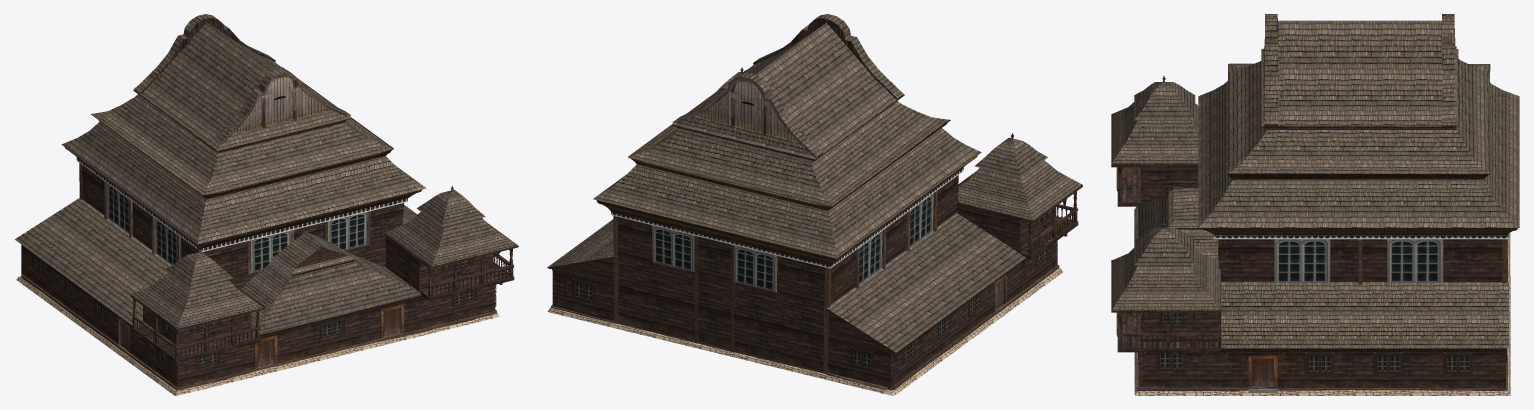
Rendered from preview.glb.
3 views of the same model, side by side, from view 1: azimuth 30°, elevation 25°; view 2: azimuth 150°, elevation 25°; view 3: azimuth 270°, elevation 25° (orthographic). The views are drawn at different scales.
Visible parts, largest first — view 1: wolpa_gont_0, wolpa_drewno_0, wolpa_oknainne_0, wolpa_deskaobiciowaCiemna_0, wolpa_bale5_0, wolpa_KAMIEN3_0, wolpa_deskaObiciowa4_0, wolpa_dekor2_0, wolpa_piaskiDif_0, wolpa_deskaObiciowa8_0; view 2: wolpa_gont_0, wolpa_drewno_0, wolpa_oknainne_0, wolpa_deskaobiciowaCiemna_0, wolpa_KAMIEN3_0, wolpa_bale5_0, wolpa_deskaObiciowa4_0, wolpa_deskaobiciowa.001_0, wolpa_dekor2_0, wolpa_deskaObiciowa8_0; view 3: wolpa_gont_0, wolpa_drewno_0, wolpa_oknainne_0, wolpa_deskaobiciowaCiemna_0, wolpa_KAMIEN3_0, wolpa_bale5_0, wolpa_dekor2_0, wolpa_piaskiDif_0.
Boxes of the visible parts, <box> form: wolpa_gont_0: <box>15,14,517,334</box>; wolpa_drewno_0: <box>21,18,514,387</box>; wolpa_oknainne_0: <box>32,183,476,369</box>; wolpa_deskaobiciowaCiemna_0: <box>65,67,518,357</box>; wolpa_bale5_0: <box>21,181,496,390</box>; wolpa_KAMIEN3_0: <box>16,276,499,395</box>; wolpa_deskaObiciowa4_0: <box>232,77,331,134</box>; wolpa_dekor2_0: <box>76,157,407,251</box>; wolpa_piaskiDif_0: <box>118,304,404,369</box>; wolpa_deskaObiciowa8_0: <box>220,75,346,145</box>; wolpa_gont_0: <box>547,14,1082,352</box>; wolpa_drewno_0: <box>552,18,1078,387</box>; wolpa_oknainne_0: <box>572,193,1048,370</box>; wolpa_deskaobiciowaCiemna_0: <box>547,70,1082,353</box>; wolpa_KAMIEN3_0: <box>547,268,1062,395</box>; wolpa_bale5_0: <box>551,190,1059,390</box>; wolpa_deskaObiciowa4_0: <box>693,81,799,143</box>; wolpa_deskaobiciowa.001_0: <box>613,216,831,374</box>; wolpa_dekor2_0: <box>611,168,963,268</box>; wolpa_deskaObiciowa8_0: <box>677,78,811,154</box>; wolpa_gont_0: <box>1111,14,1519,348</box>; wolpa_drewno_0: <box>1116,18,1508,388</box>; wolpa_oknainne_0: <box>1138,167,1507,392</box>; wolpa_deskaobiciowaCiemna_0: <box>1111,63,1517,349</box>; wolpa_KAMIEN3_0: <box>1134,206,1510,395</box>; wolpa_bale5_0: <box>1137,207,1508,390</box>; wolpa_dekor2_0: <box>1213,234,1508,239</box>; wolpa_piaskiDif_0: <box>1248,356,1277,387</box>.
Size of the model in its own units: 22.88 by 15.5 by 20.1.
14 materials, 13 textured.
